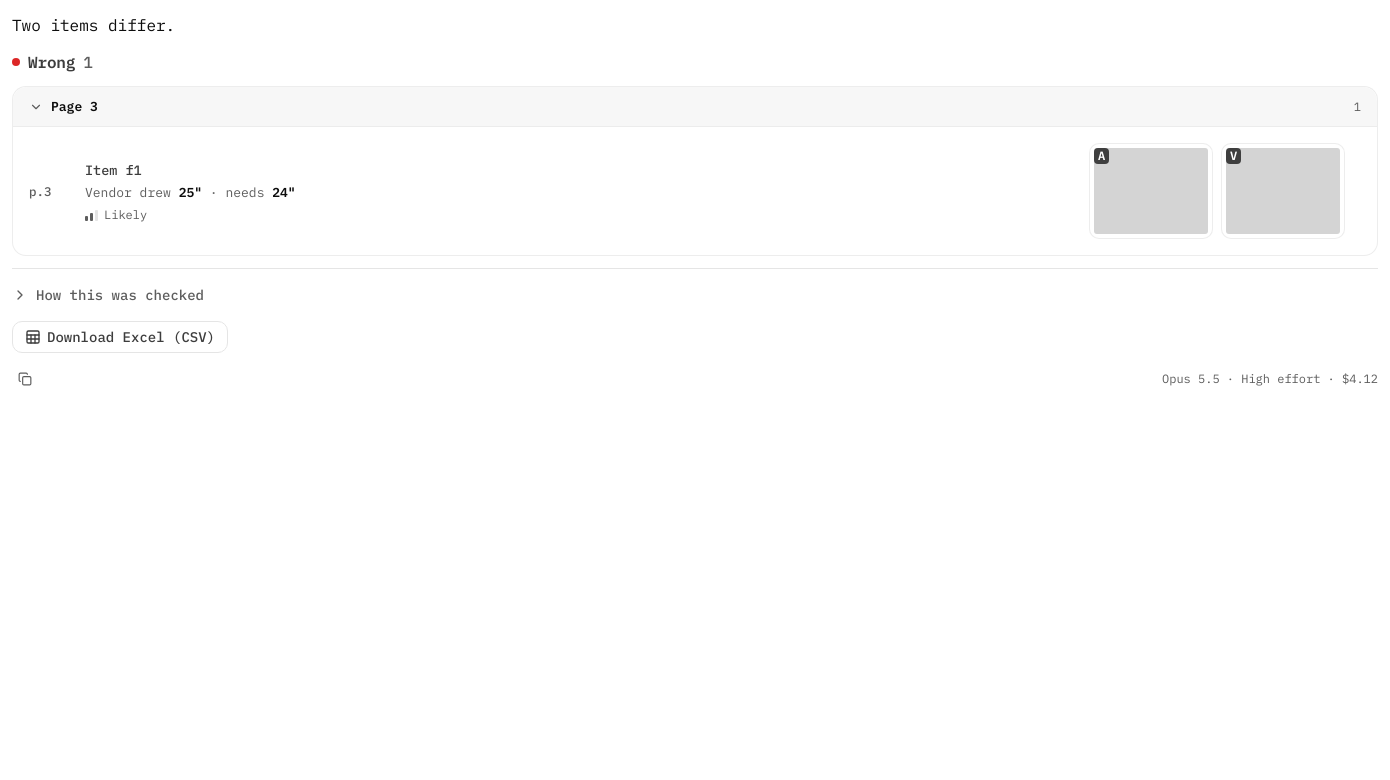
the table under "How this was checked" › shows the phases and the helpers once opened, and nothing on an older answer
What coordinates should you click on to do the following:
click the button "How this was checked"
I would click on:
 (120, 295)
Its box is [12,281,1378,309].
(page scrolled)
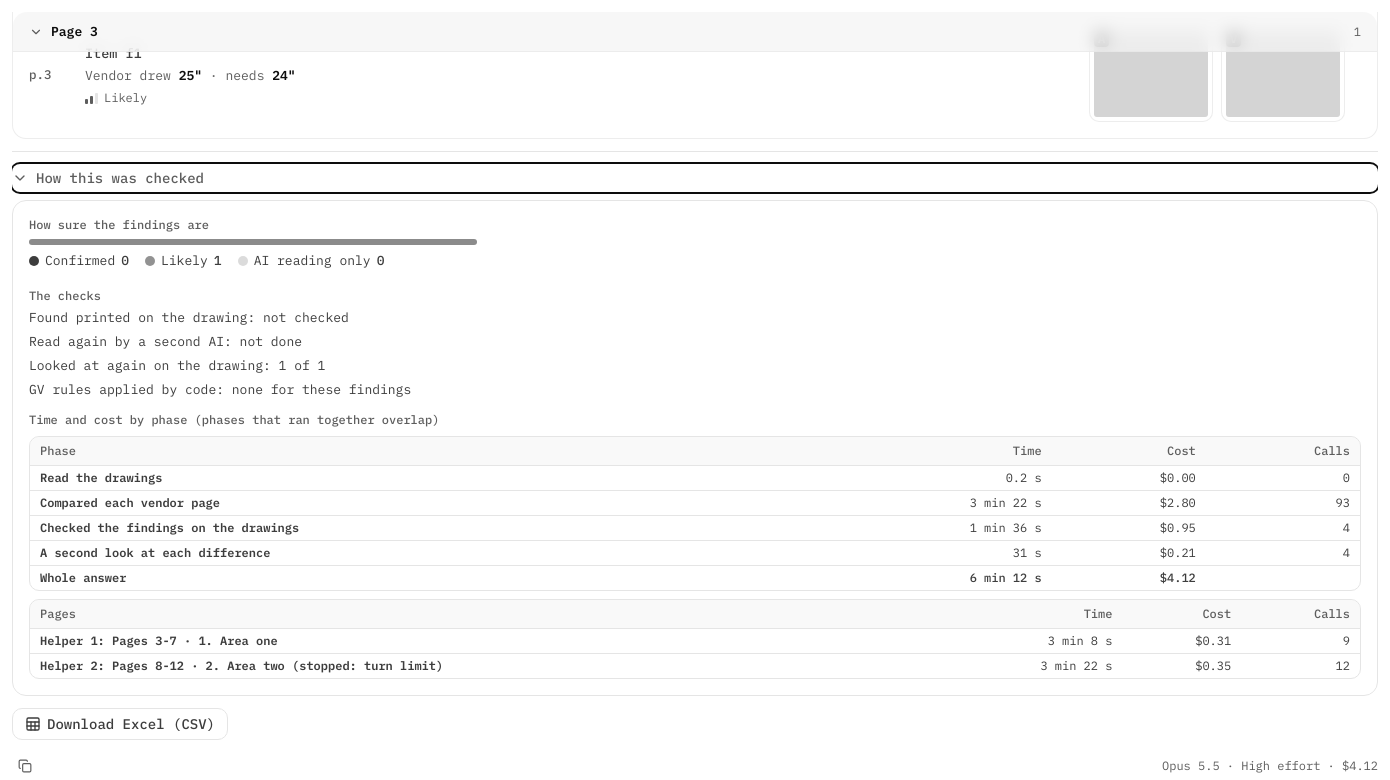
Expected: the column heading "Helper 2: Pages 8-12 · 2. Area two (stopped: turn limit)" is shown, [30,654,927,678]
